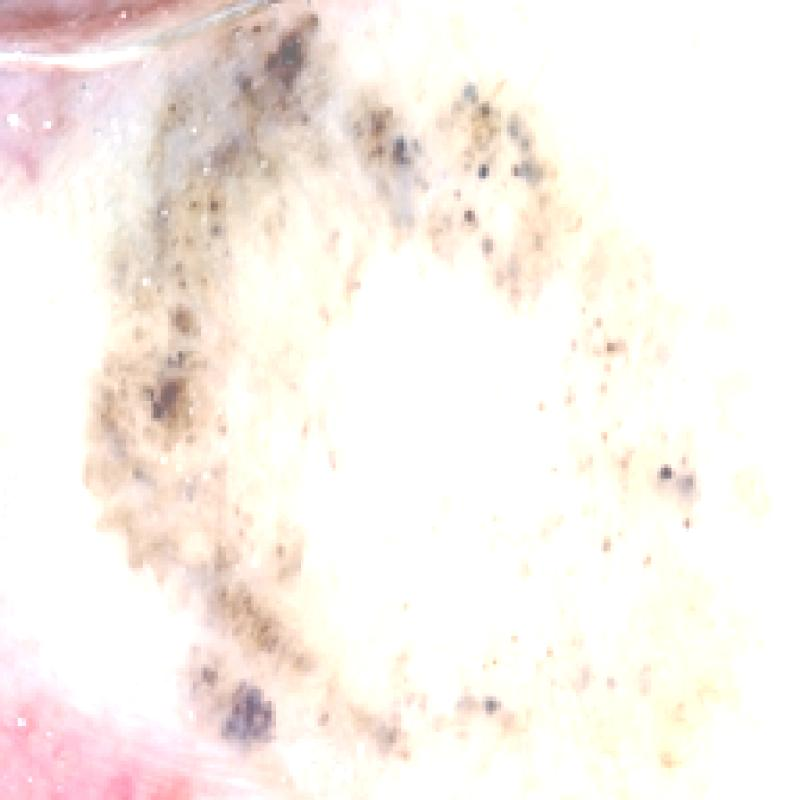malignant: (77, 13, 756, 757)
